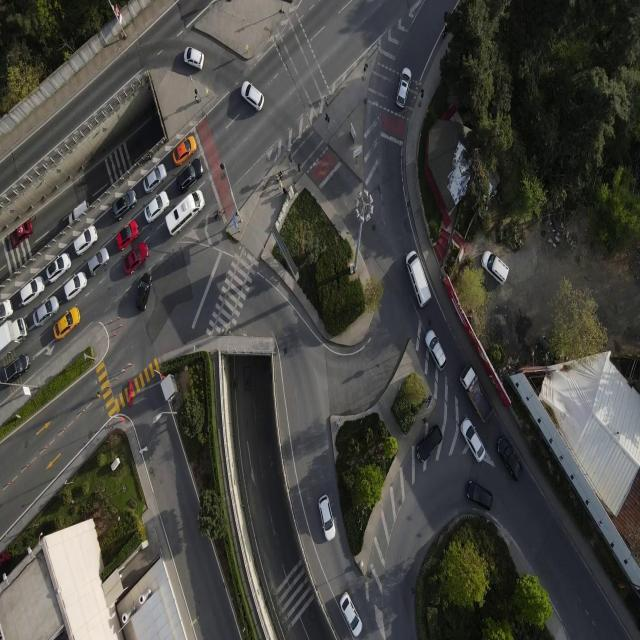p3rson: (215, 209, 224, 220), (279, 180, 283, 189), (422, 417, 427, 424), (195, 96, 199, 103), (283, 187, 287, 194), (276, 175, 280, 182), (298, 163, 300, 171), (300, 166, 300, 172)
